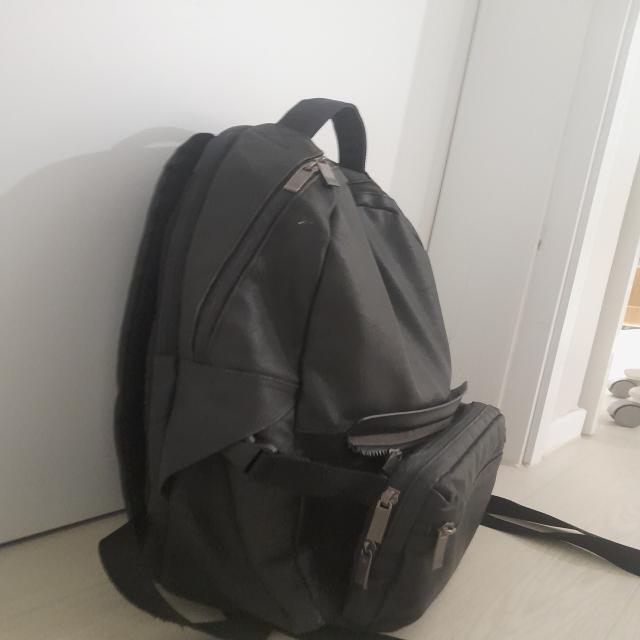backpack: (100, 97, 638, 640)
